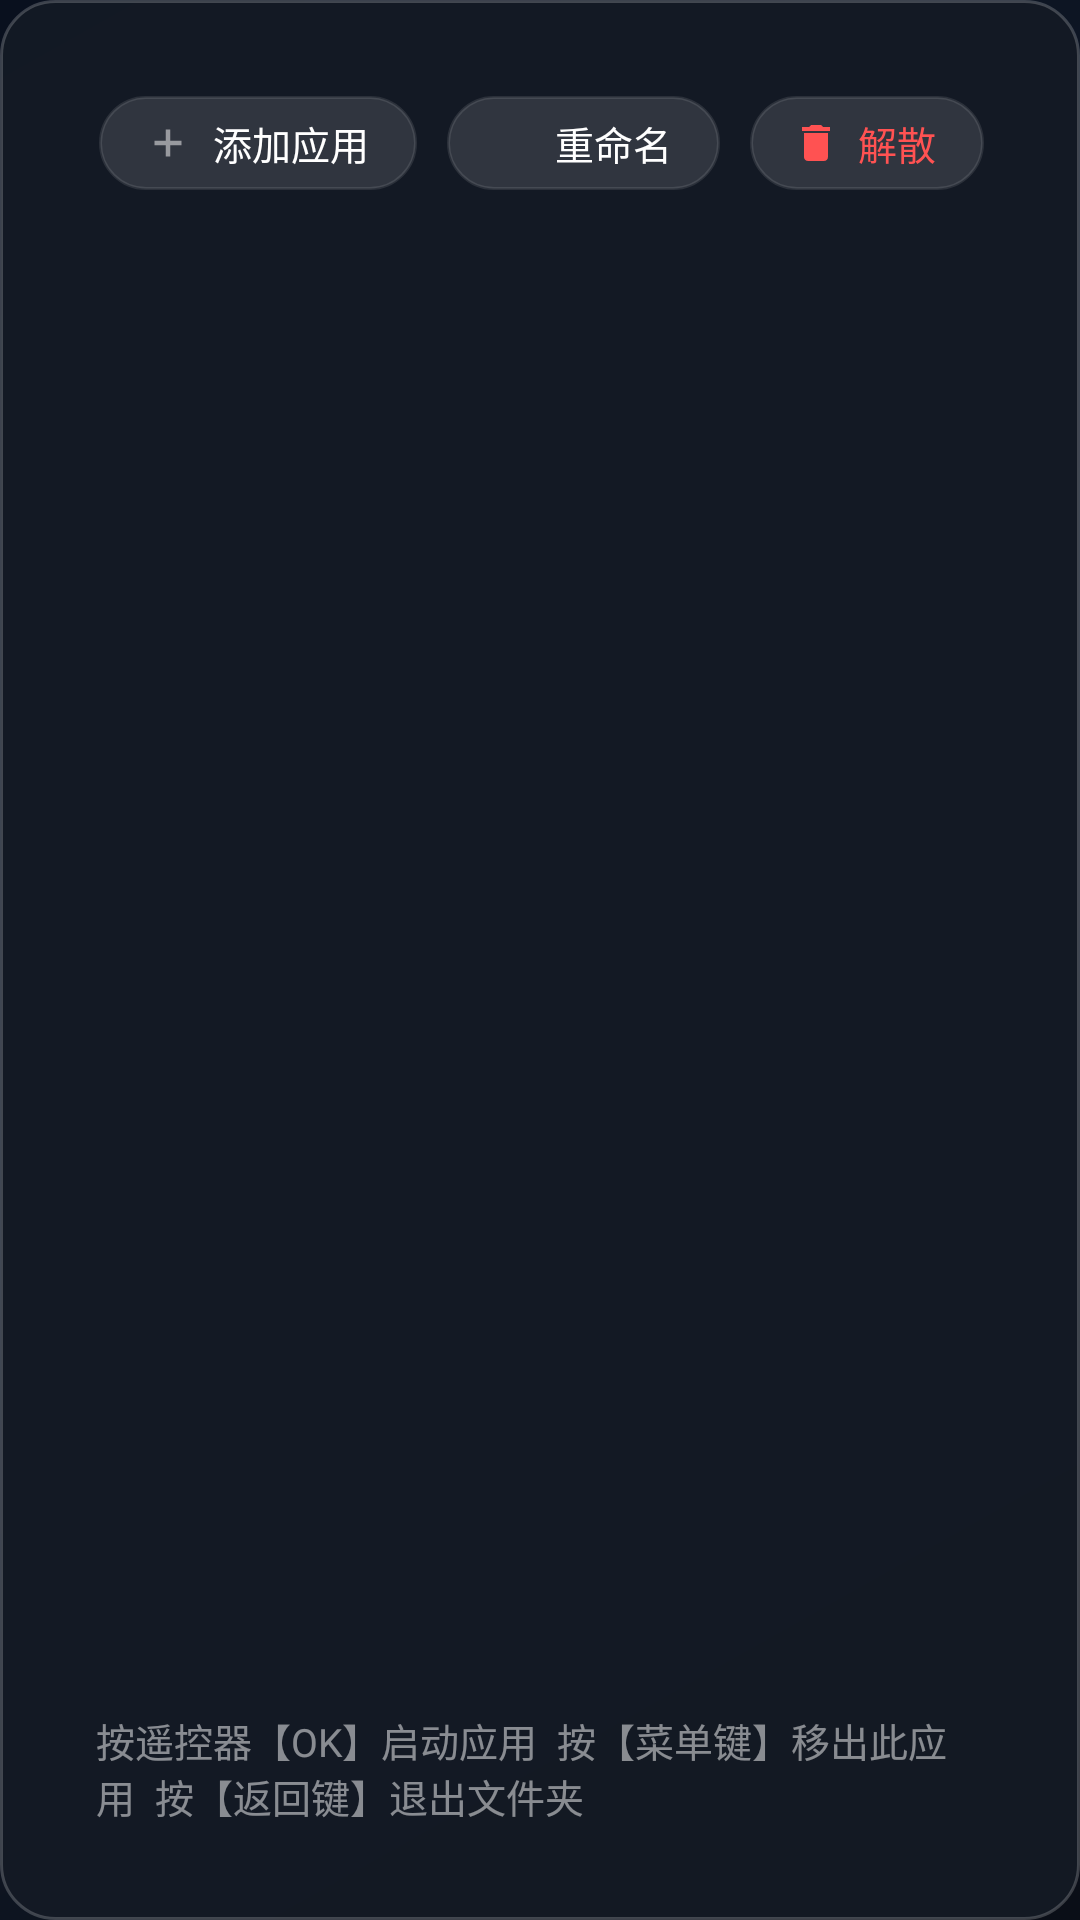

Locate icon controls on the screen. Image size 1080 x 1920, boxes as [x1, y1, x2, y2].
delete: [802, 125, 830, 161]
